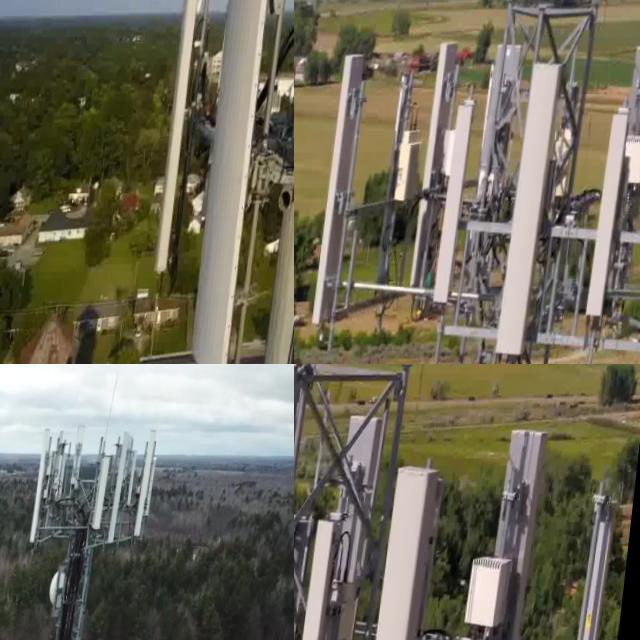GSM Antenna: (184, 0, 294, 364), (500, 44, 572, 364), (354, 453, 453, 640), (471, 424, 552, 640), (317, 53, 374, 341), (323, 404, 387, 640), (159, 0, 212, 277), (412, 43, 463, 293), (376, 69, 426, 311), (438, 96, 487, 320), (594, 111, 636, 335), (294, 504, 354, 640), (572, 503, 624, 640), (34, 421, 62, 547), (138, 428, 166, 536), (114, 433, 138, 546), (74, 422, 96, 494), (100, 452, 119, 535)
Microwave Antenna: (52, 565, 82, 631)
